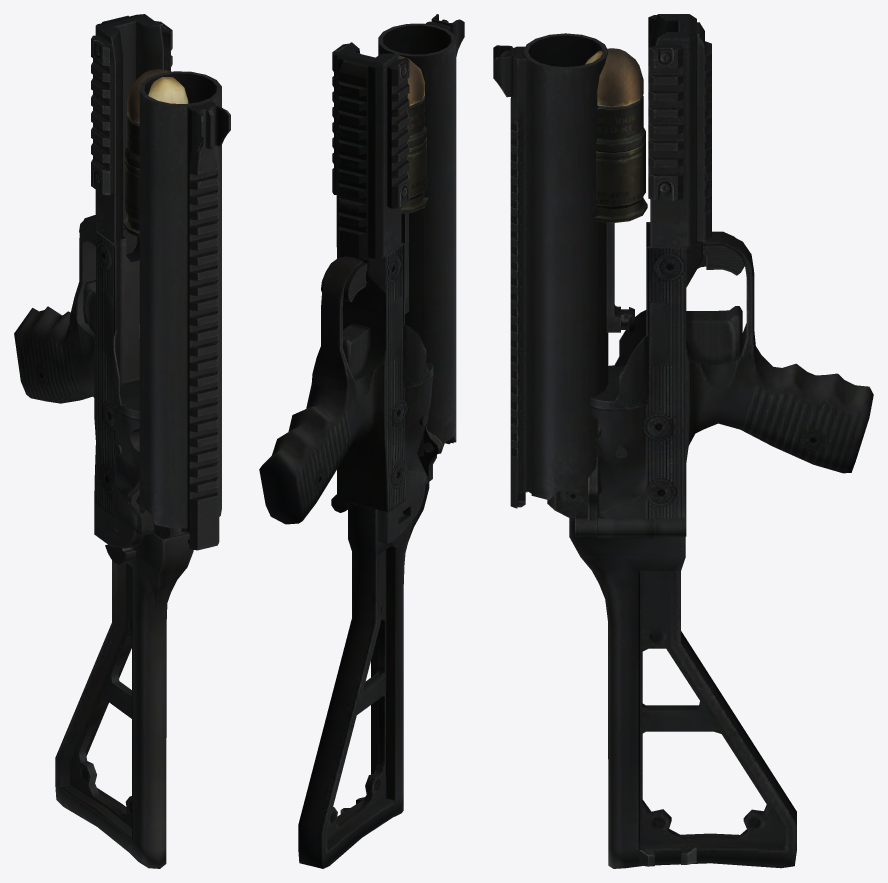
3 views of the same model, side by side, from view 1: azimuth 30°, elevation 25°; view 2: azimuth 150°, elevation 25°; view 3: azimuth 270°, elevation 25° (orthographic). The views are drawn at different scales.
Visible parts, largest first — view 1: Model_GL-06, Model_Gunbarrel, Model_Grenade; view 2: Model_GL-06, Model_Gunbarrel, Model_Grenade; view 3: Model_GL-06, Model_Gunbarrel, Model_Grenade.
Part boxes in pixels (x1,y1,x2,y2): Model_GL-06: (14, 14, 193, 868); Model_Gunbarrel: (139, 71, 230, 550); Model_Grenade: (123, 69, 188, 237); Model_GL-06: (259, 42, 443, 868); Model_Gunbarrel: (378, 14, 464, 456); Model_Grenade: (398, 55, 428, 213); Model_GL-06: (531, 14, 873, 868); Model_Gunbarrel: (493, 33, 634, 508); Model_Grenade: (585, 48, 647, 223).
Bounding box in the file's own units: 0.052 × 0.5167 × 0.2124.
2 materials, 2 textured.
